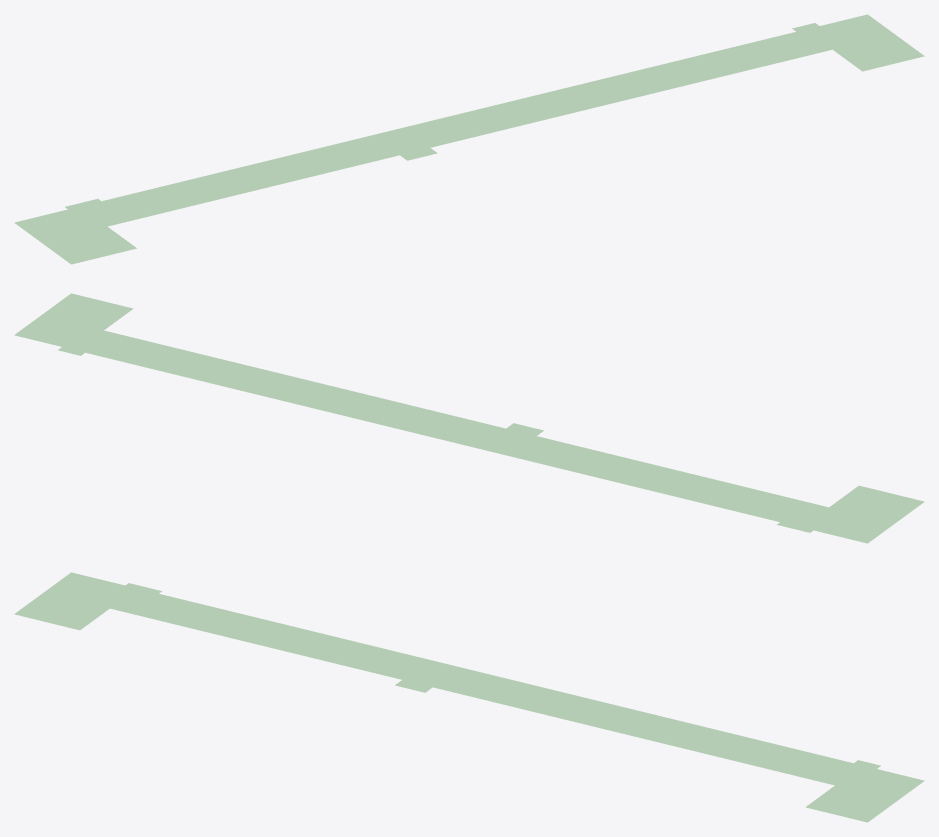
3 renders of one model, top to bottom at view 1: azimuth 30°, elevation 25°; view 2: azimuth 150°, elevation 25°; view 3: azimuth 330°, elevation 25°, orthographic.
Visible parts, largest first — view 1: 2Rs$MNEPnEuvSgGw96q1I3_h266986; view 2: 2Rs$MNEPnEuvSgGw96q1I3_h266986; view 3: 2Rs$MNEPnEuvSgGw96q1I3_h266986.
Boxes of the visible parts, x1,y1,x2,y2 form: 2Rs$MNEPnEuvSgGw96q1I3_h266986: [14, 14, 924, 264]; 2Rs$MNEPnEuvSgGw96q1I3_h266986: [14, 293, 924, 543]; 2Rs$MNEPnEuvSgGw96q1I3_h266986: [14, 572, 924, 822].
Bounding box in the file's own units: 36.25 × 0 × 4.54.
